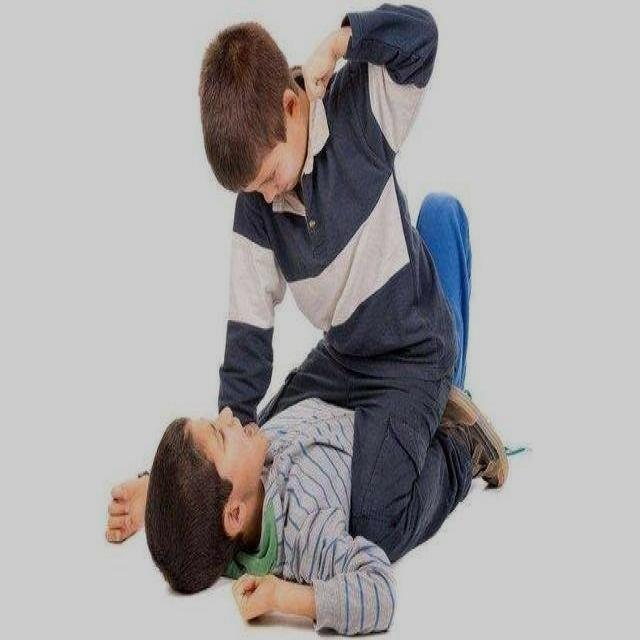fight: (105, 0, 511, 634)
